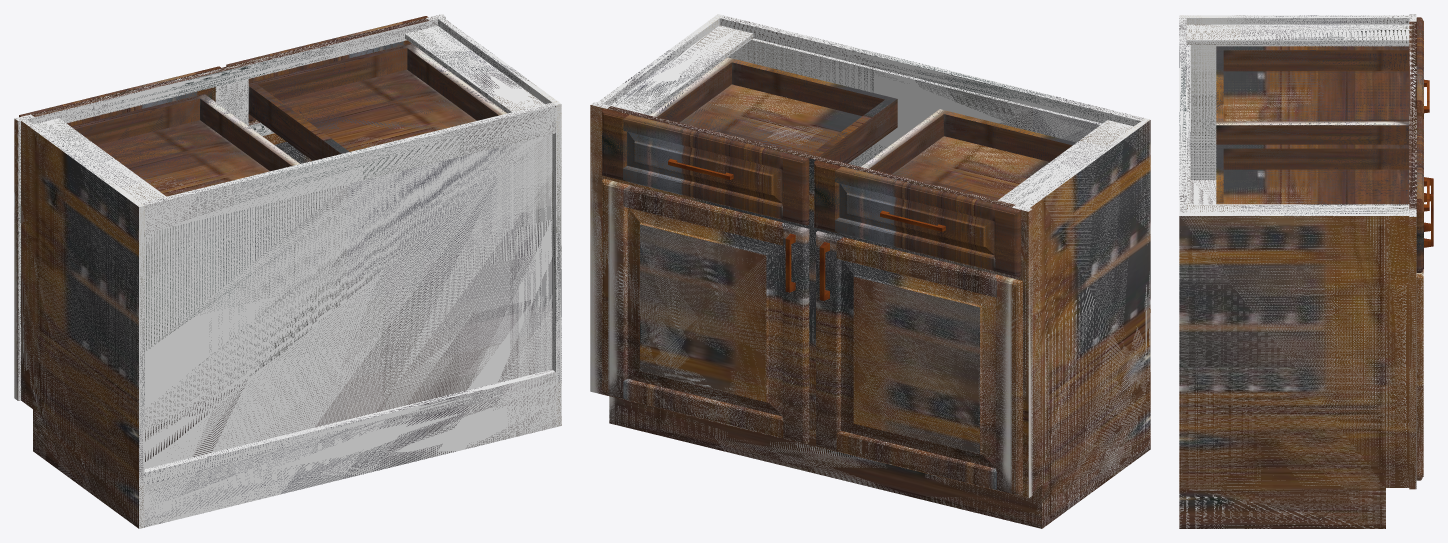
3 renders of one model, left to right at view 1: azimuth 30°, elevation 25°; view 2: azimuth 150°, elevation 25°; view 3: azimuth 270°, elevation 25°, orthographic. The views are drawn at different scales.
Parts seen in each view (by area): view 1: mesh3_mesh3-geometry, mesh4_mesh4-geometry, mesh5_mesh5-geometry; view 2: mesh3_mesh3-geometry, mesh7_mesh7-geometry, mesh2_mesh2-geometry, mesh5_mesh5-geometry, mesh4_mesh4-geometry, mesh6_mesh6-geometry; view 3: mesh3_mesh3-geometry, mesh4_mesh4-geometry, mesh5_mesh5-geometry, mesh7_mesh7-geometry, mesh6_mesh6-geometry.
Part boxes in pixels (left/top/right/bottom): mesh3_mesh3-geometry: left=14, top=14, right=561, bottom=528; mesh4_mesh4-geometry: left=71, top=43, right=506, bottom=196; mesh5_mesh5-geometry: left=19, top=16, right=427, bottom=126; mesh3_mesh3-geometry: left=590, top=14, right=1150, bottom=528; mesh7_mesh7-geometry: left=602, top=179, right=809, bottom=443; mesh2_mesh2-geometry: left=816, top=231, right=1022, bottom=495; mesh5_mesh5-geometry: left=602, top=108, right=1021, bottom=277; mesh4_mesh4-geometry: left=649, top=57, right=1076, bottom=200; mesh6_mesh6-geometry: left=668, top=159, right=945, bottom=292; mesh3_mesh3-geometry: left=1179, top=14, right=1416, bottom=528; mesh4_mesh4-geometry: left=1216, top=46, right=1409, bottom=204; mesh5_mesh5-geometry: left=1416, top=17, right=1423, bottom=272; mesh7_mesh7-geometry: left=1416, top=269, right=1423, bottom=480; mesh6_mesh6-geometry: left=1424, top=79, right=1433, bottom=247.
Size of the model in its own units: 0.7461 by 0.5363 by 0.3946.
